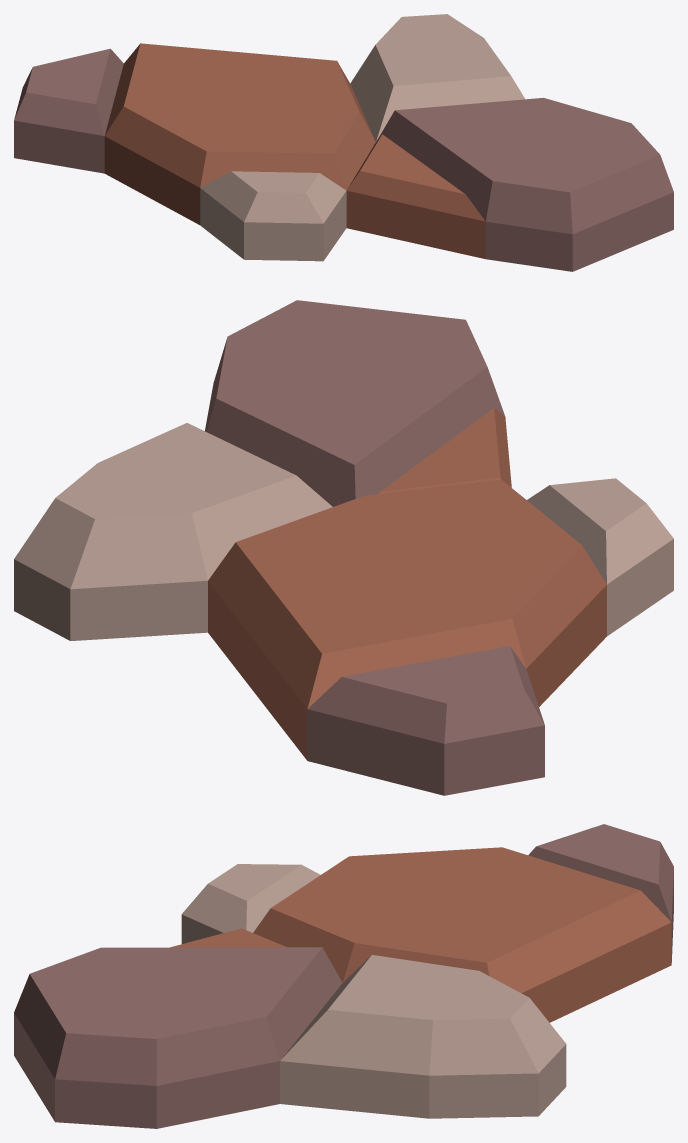
File: rock-type4-01-orange.glb
The picture shows the model from 3 angles, top to bottom: view 1: azimuth 30°, elevation 25°; view 2: azimuth 150°, elevation 25°; view 3: azimuth 270°, elevation 25°; orthographic projection. The views are drawn at different scales.
Visible parts, largest first — view 1: Rock_Type4_01_mesh; view 2: Rock_Type4_01_mesh; view 3: Rock_Type4_01_mesh.
Part boxes in pixels (bbox=[...]): Rock_Type4_01_mesh: bbox=[14, 14, 673, 271]; Rock_Type4_01_mesh: bbox=[14, 300, 673, 795]; Rock_Type4_01_mesh: bbox=[14, 824, 673, 1128].
Bounding box in the file's own units: 1.86 × 0.3156 × 2.14.
1 material, 1 textured.
